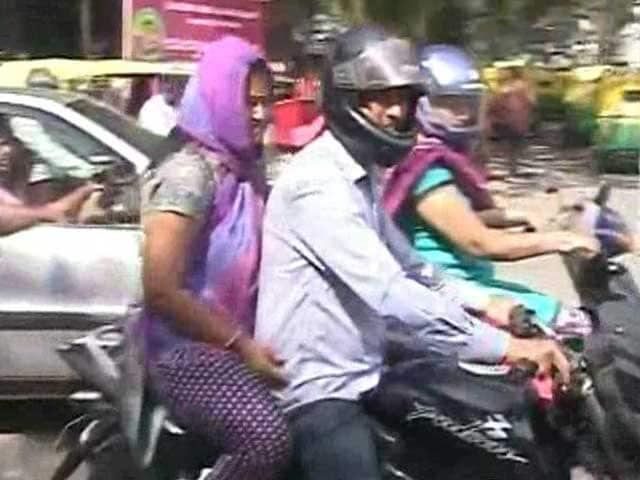helmet: (313, 10, 416, 173), (399, 36, 495, 153)
nohelmet: (180, 21, 279, 165)
